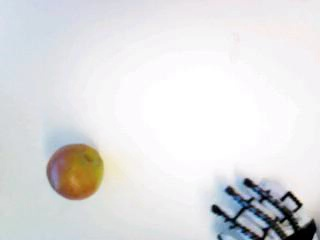apple: (44, 142, 104, 201)
hand: (211, 177, 317, 237)
